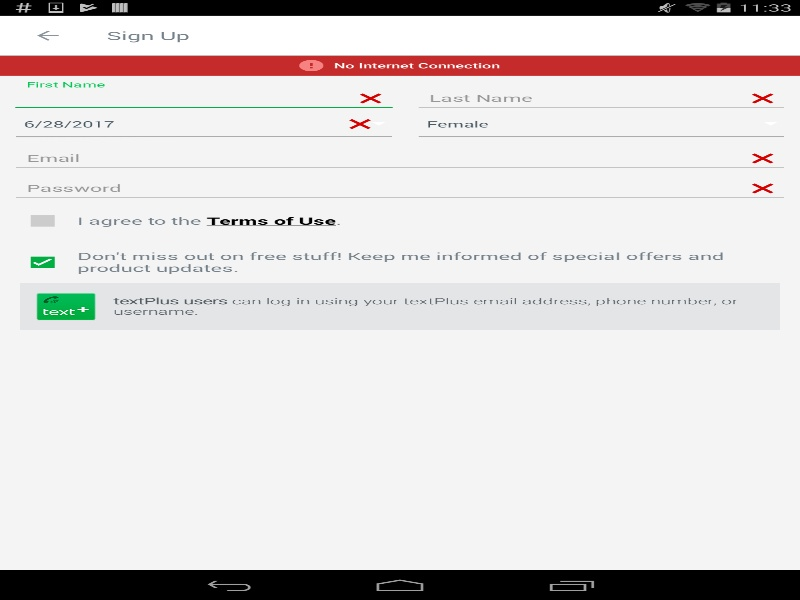Button: (10, 15, 85, 55)
Input: (10, 147, 789, 170), (10, 177, 789, 200), (10, 87, 397, 110), (413, 87, 789, 110)
